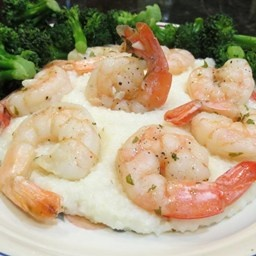background: (0, 0, 102, 94)
